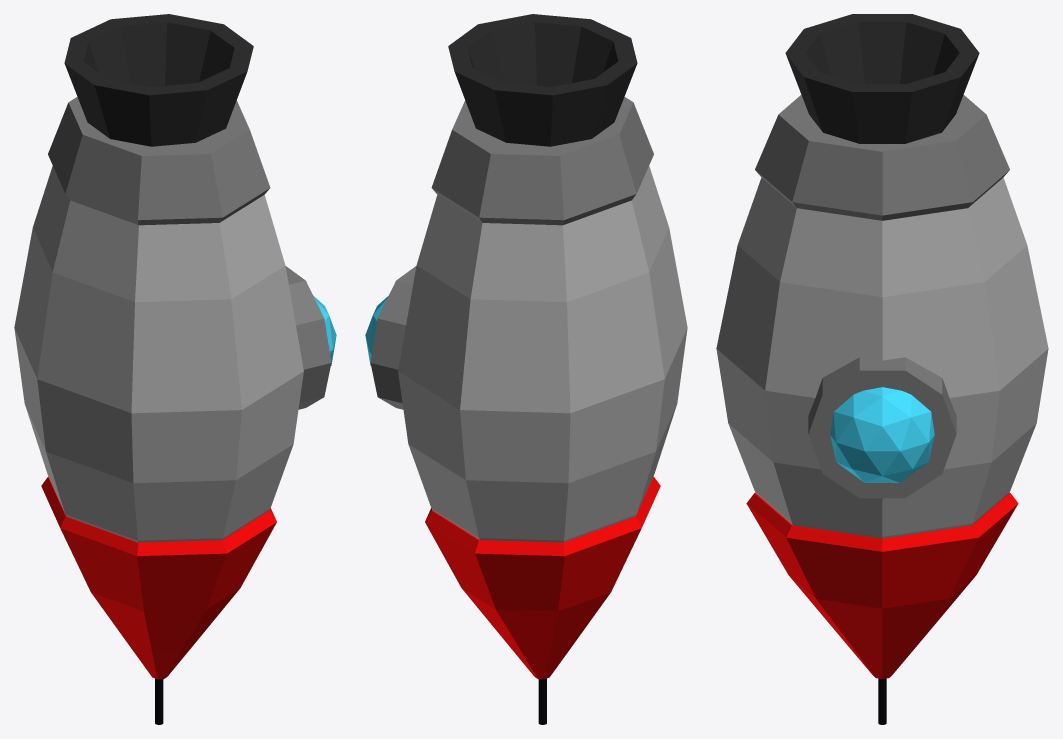
The model's file is rocket.fbx.
The picture shows the model from 3 angles, left to right: view 1: azimuth 30°, elevation 25°; view 2: azimuth 150°, elevation 25°; view 3: azimuth 270°, elevation 25°; orthographic projection.
Visible parts, largest first — view 1: Rocket Joined; view 2: Rocket Joined; view 3: Rocket Joined.
Part boxes in pixels (x1,y1,x2,y2): Rocket Joined: (14, 14, 336, 724); Rocket Joined: (365, 14, 687, 724); Rocket Joined: (716, 14, 1048, 724).
Bounding box in the file's own units: 403 × 409 × 898.
